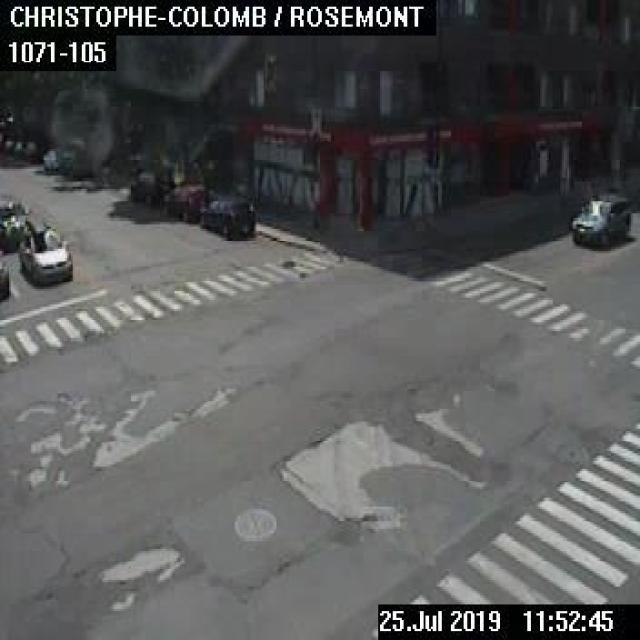vehicle: (18, 217, 72, 284), (570, 191, 630, 247), (198, 196, 255, 236), (160, 185, 207, 221), (0, 197, 27, 251), (129, 170, 172, 202), (42, 148, 73, 168), (0, 262, 9, 298)
